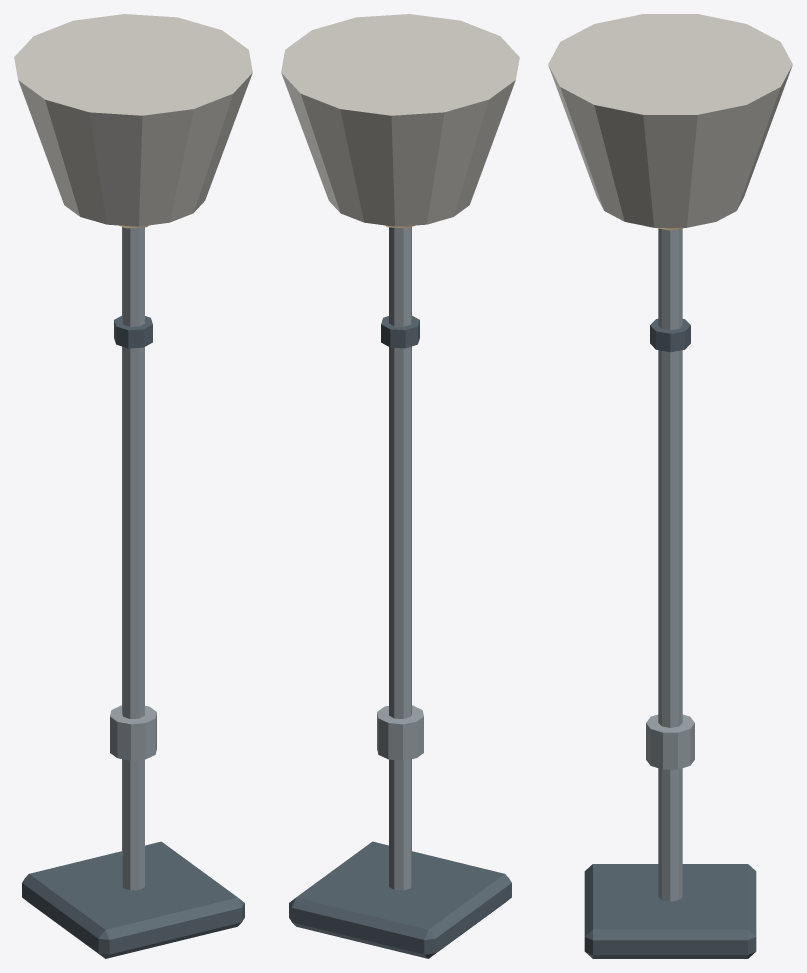
File: torch.fbx
3 views of the same model, side by side, from view 1: azimuth 30°, elevation 25°; view 2: azimuth 150°, elevation 25°; view 3: azimuth 270°, elevation 25° (orthographic).
Visible parts, largest first — view 1: torch; view 2: torch; view 3: torch.
Part boxes in pixels (x1,y1,x2,y2): torch: (14,14,252,958); torch: (281,14,519,958); torch: (548,14,792,958).
Size of the model in its own units: 0.585 by 2.33 by 0.6.
